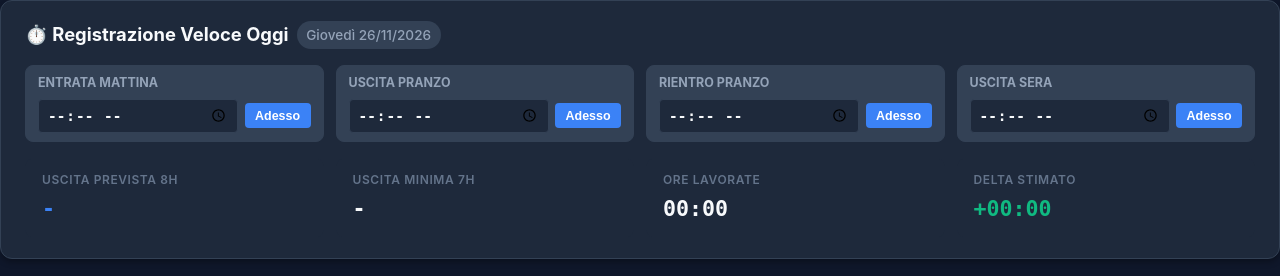
TodayHeroWidget Feature › allows manual time editing for punches in TodayHeroWidget with current time default
// User can manually set punch time
Type "08:45" into the time field with test id "hero-input-morningIn" at (138, 116), box [38, 99, 238, 133]
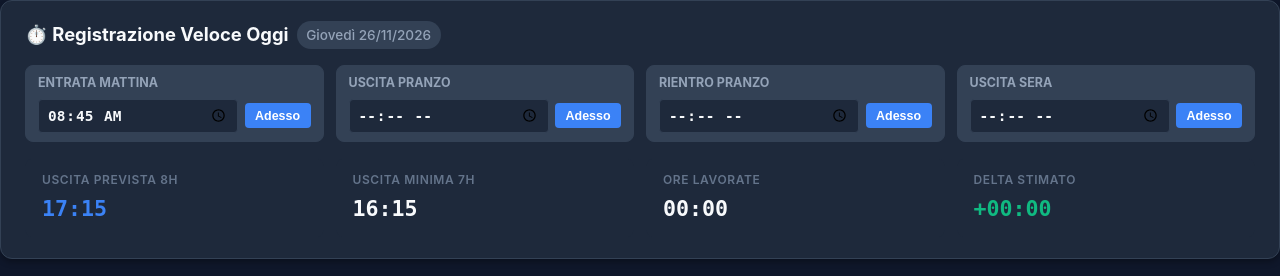
Now the text with test id "hero-expected-8h" reads "17:15", box [42, 196, 107, 221]
